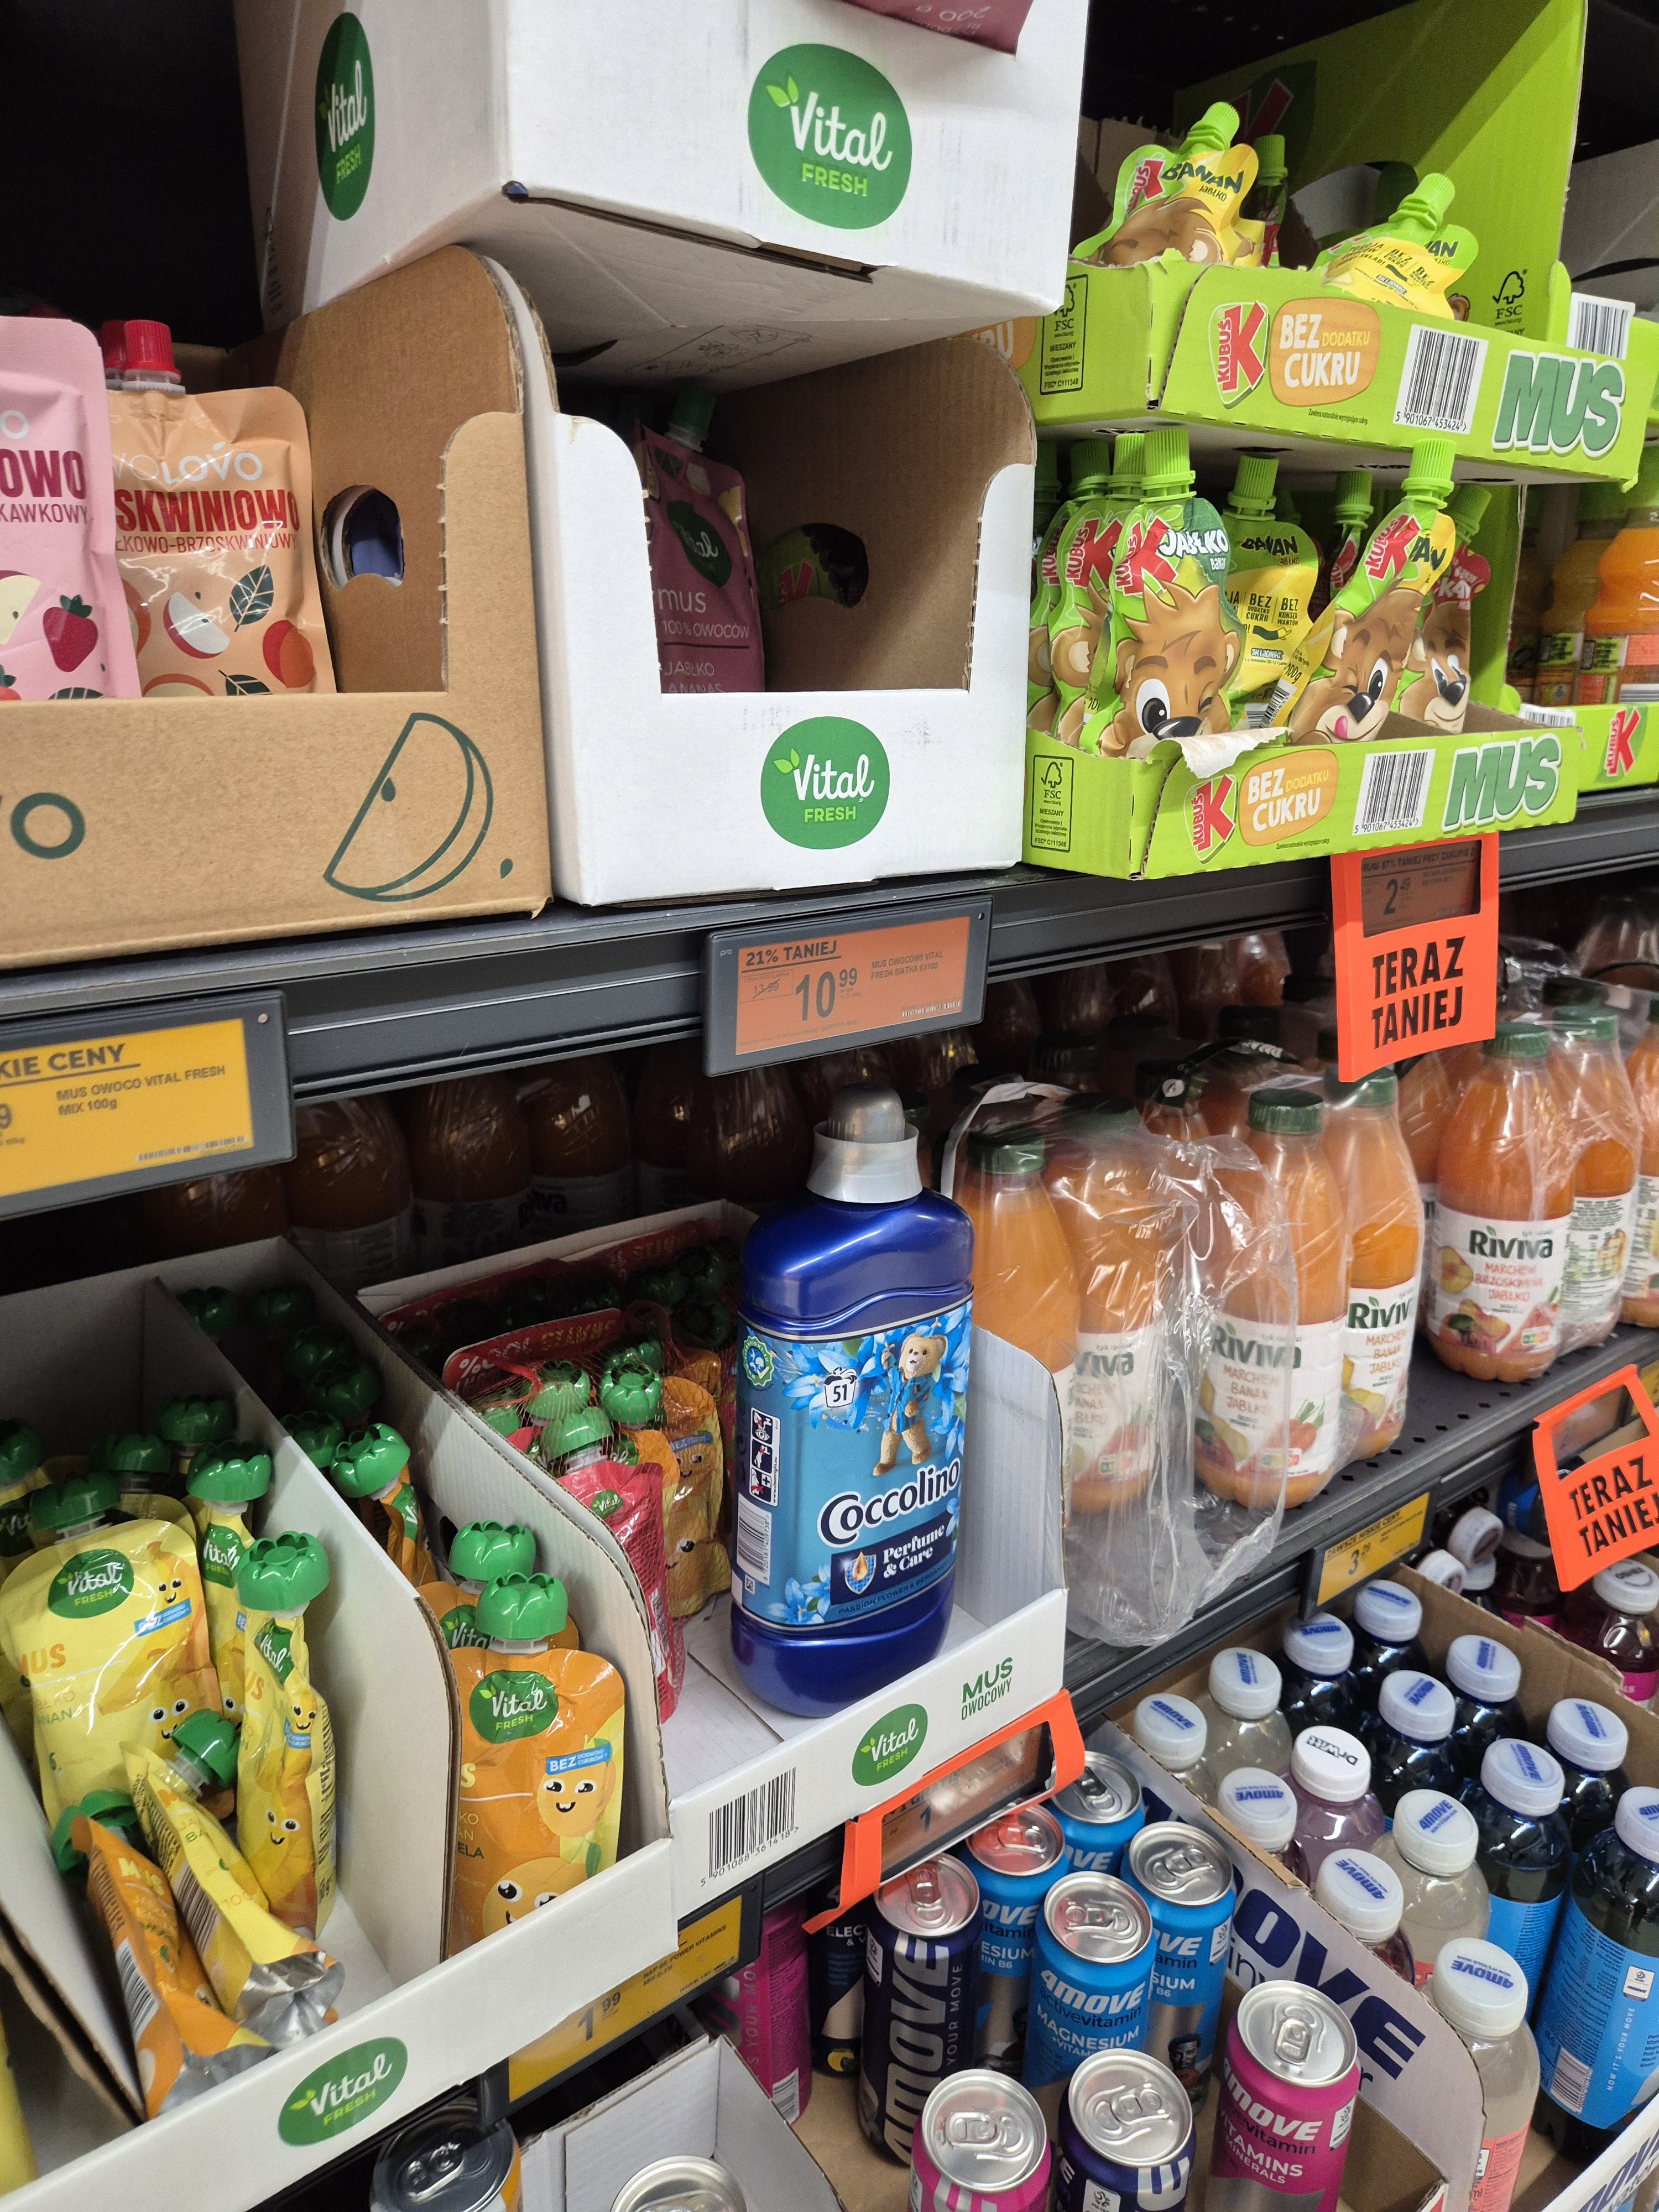cocolino: (744, 1090, 974, 1702)
